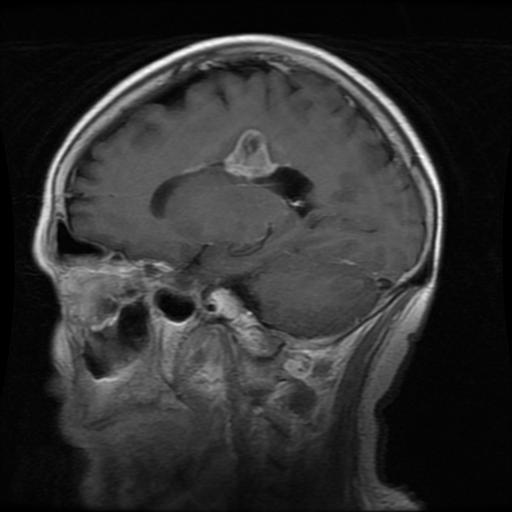Gliomia_tumour: (225, 129, 280, 178)
